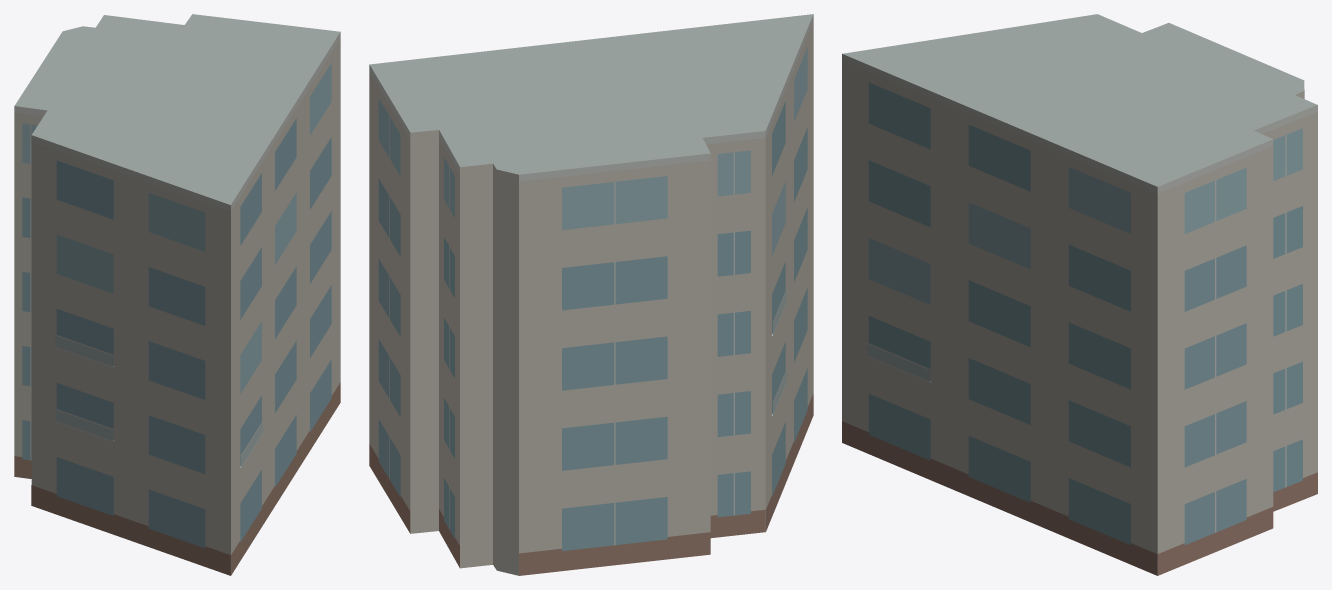
The model's file is survey-upis-32663132.glb.
3 views of the same model, side by side, from view 1: azimuth 30°, elevation 25°; view 2: azimuth 150°, elevation 25°; view 3: azimuth 270°, elevation 25° (orthographic). The views are drawn at different scales.
Parts seen in each view (by area): view 1: survey-upis-32663132.tmp; view 2: survey-upis-32663132.tmp; view 3: survey-upis-32663132.tmp.
Part boxes in pixels (x1=…): survey-upis-32663132.tmp: x1=14, y1=14, x2=340, y2=575; survey-upis-32663132.tmp: x1=369, y1=14, x2=813, y2=575; survey-upis-32663132.tmp: x1=842, y1=14, x2=1317, y2=575.
Size of the model in its own units: 13.45 by 14.1 by 15.63.
